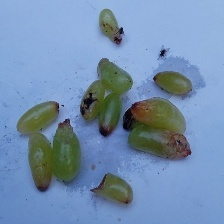grapes: (14, 50, 185, 189)
